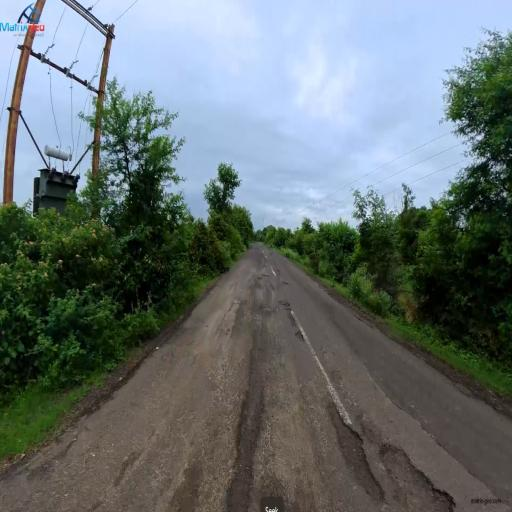pothole: (319, 381, 455, 506), (239, 384, 275, 436)
